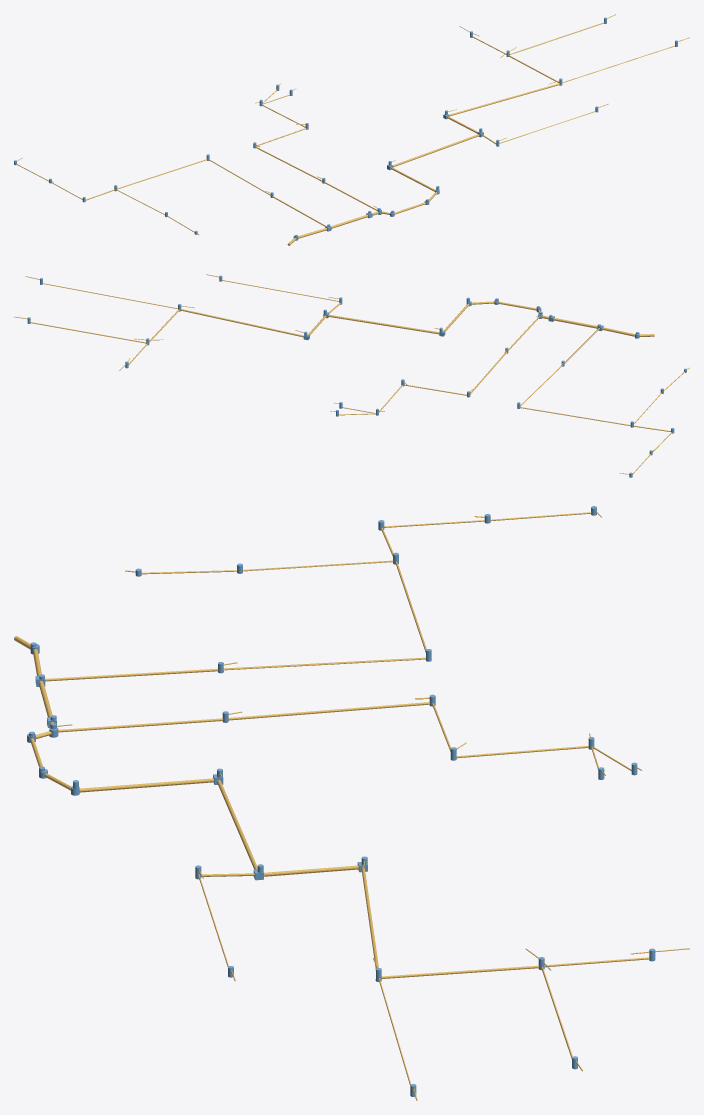
File: 500125-CSSP001-780-XX-MD-ST-000204.glb
The picture shows the model from 3 angles, top to bottom: view 1: azimuth 30°, elevation 25°; view 2: azimuth 150°, elevation 25°; view 3: azimuth 270°, elevation 25°; orthographic projection. The views are drawn at different scales.
Bounding box in the file's own units: 478 × 8.24 × 228.
